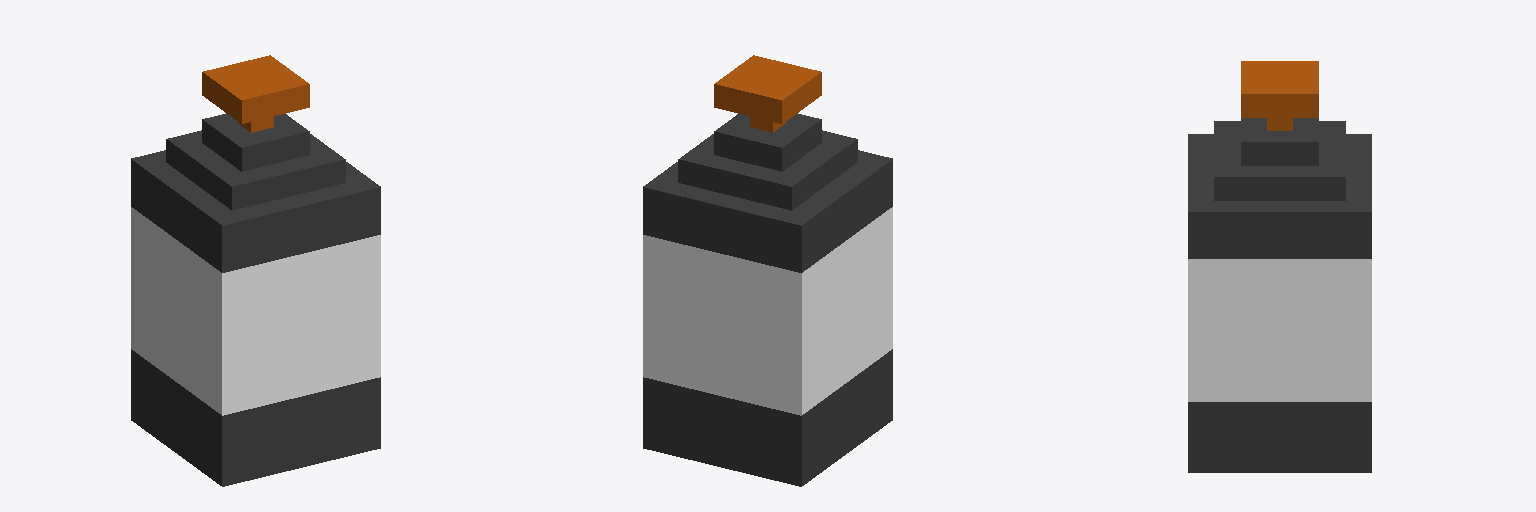
The picture shows the model from 3 angles: view 1: azimuth 30°, elevation 25°; view 2: azimuth 150°, elevation 25°; view 3: azimuth 270°, elevation 25°; orthographic projection.
Parts seen in each view (by area): view 1: object 1; view 2: object 1; view 3: object 1.
Boxes of the visible parts, <box> form: object 1: <box>131,55,380,486</box>; object 1: <box>643,55,892,486</box>; object 1: <box>1188,61,1371,472</box>.
Bounding box in the file's own units: 0.7 × 1.5 × 0.7.
1 materials, 1 textured.